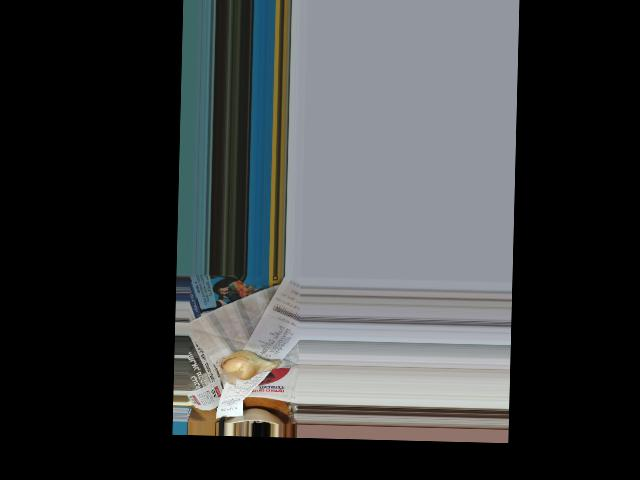onion: (219, 351, 274, 379)
